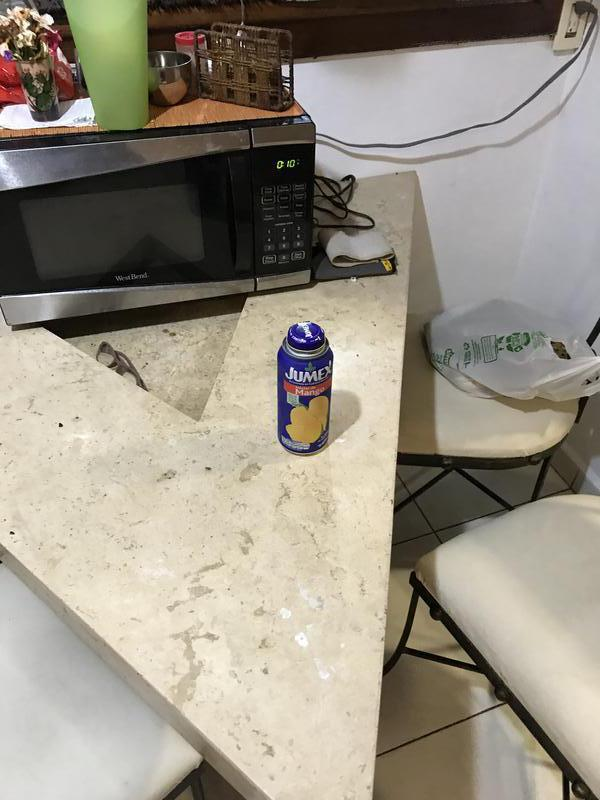jugo_jumex: (276, 323, 331, 453)
